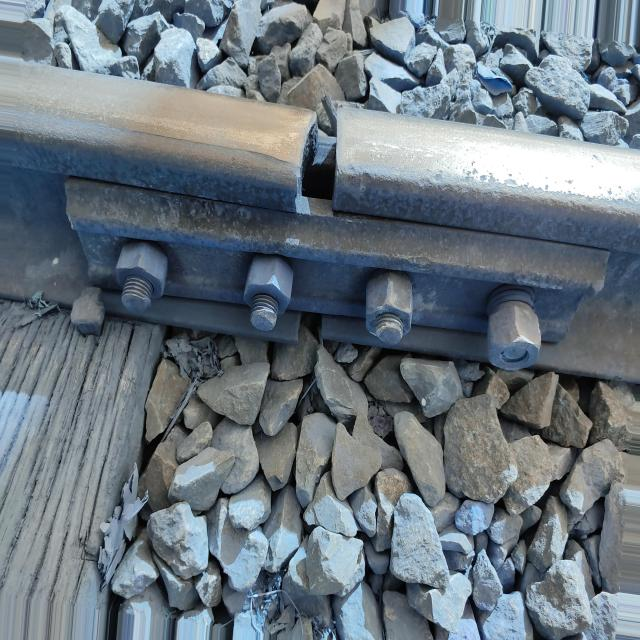crack: (274, 69, 358, 231)
